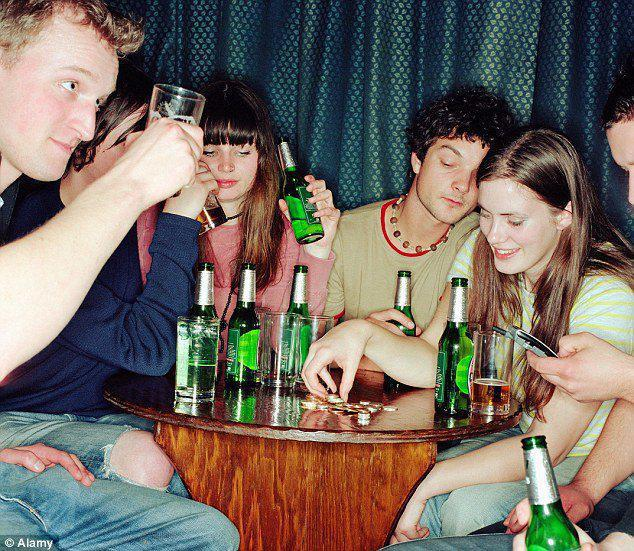Drunk: (14, 20, 114, 185), (480, 179, 552, 274), (419, 140, 480, 222), (204, 138, 260, 199)
